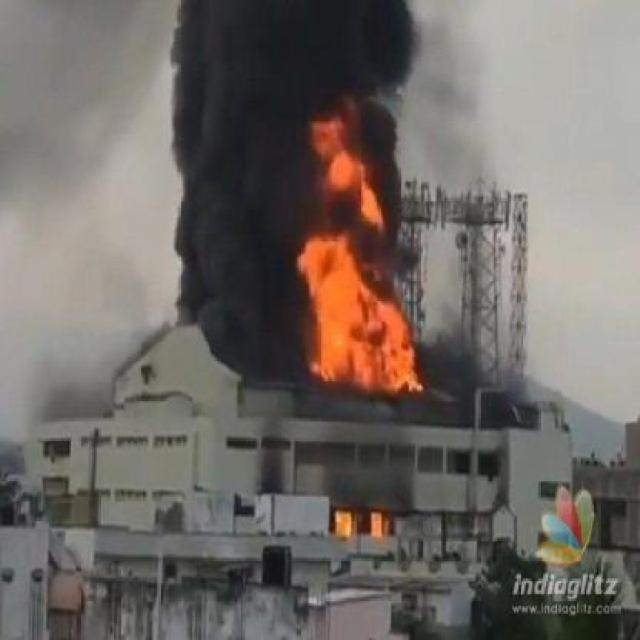Fire: (160, 116, 507, 523)
